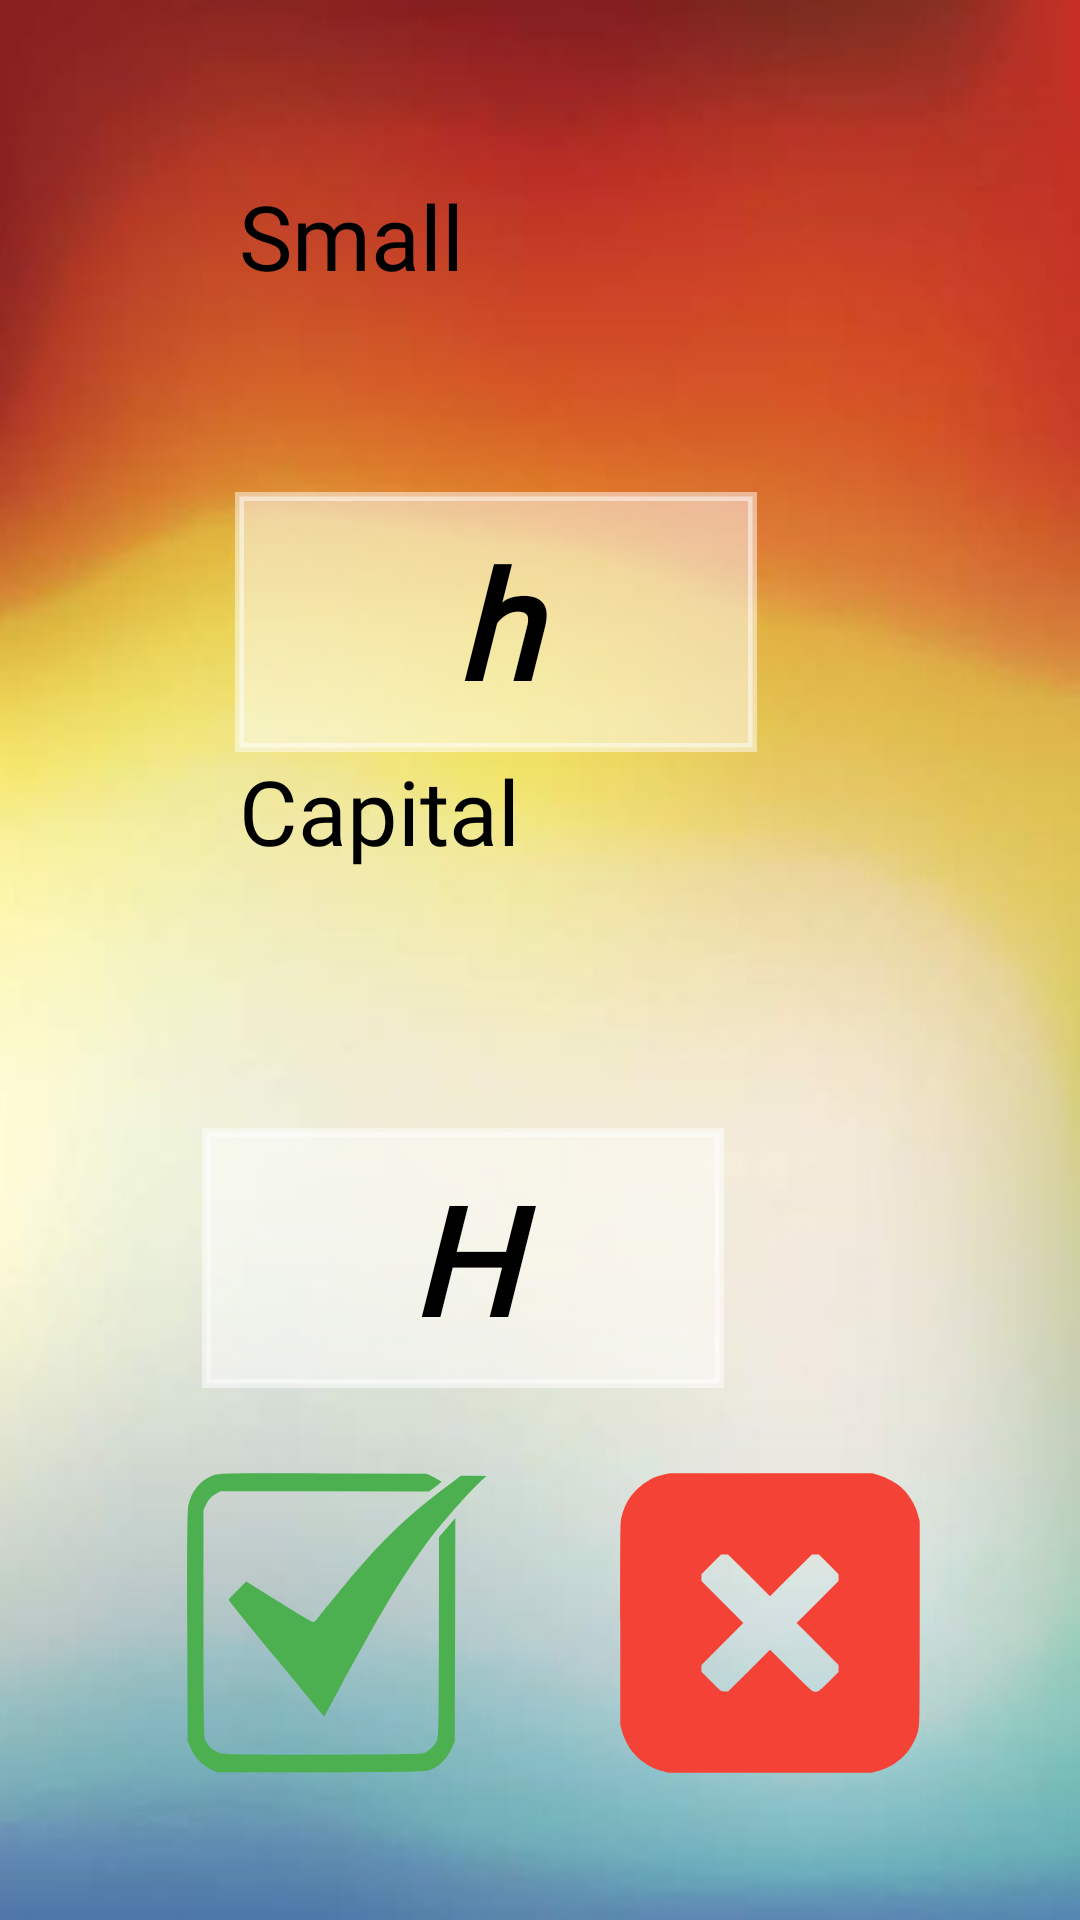

Icon click points for this 1080w x 1920h phone screenshot, format point (x, y):
cross: point (770, 1623)
tick: point (337, 1623)
